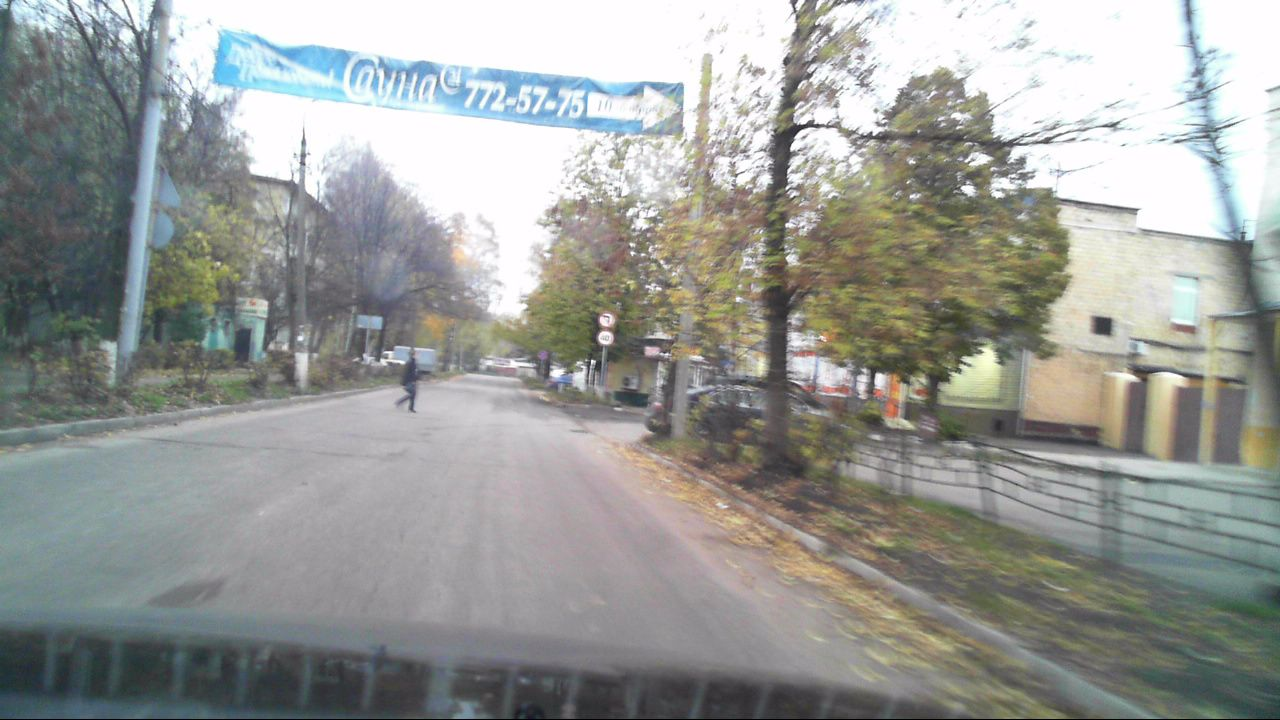speed_warning_40: (597, 329, 614, 345)
